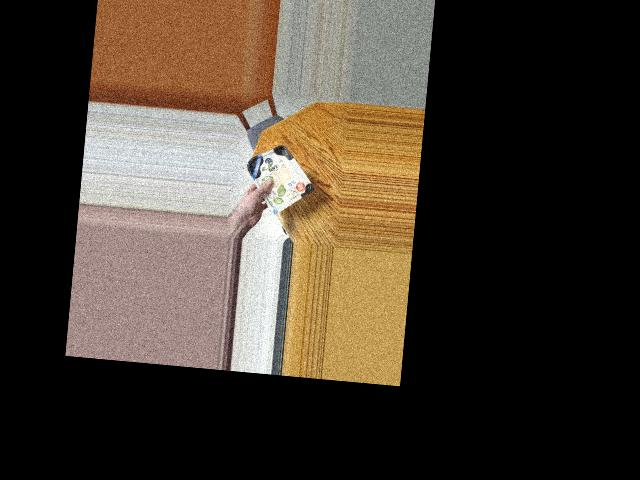cheese: (242, 142, 312, 206)
